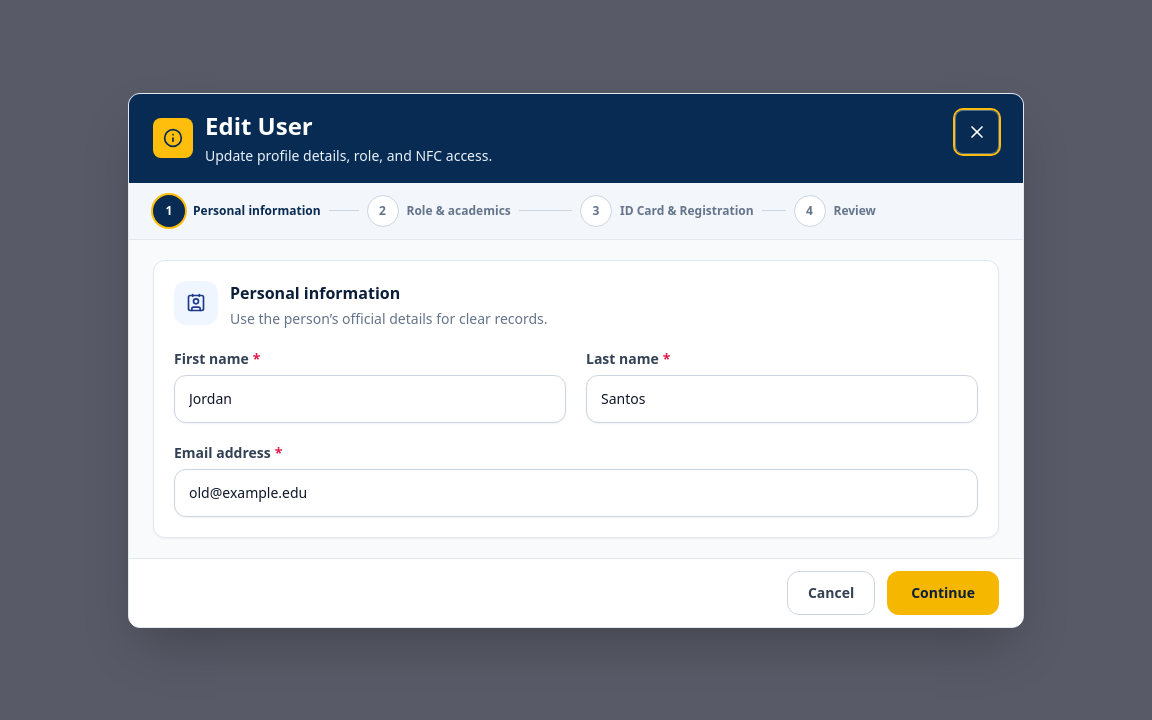
Test: UserFormWorkflow › preserves the edit draft and reports field errors after a failed final save
Expected: the field showing "Jordan" is shown, [174, 374, 566, 422]
Step 1. Replace the text in the field labelled "Email address*" with "draft@example.edu" → (576, 492), box [174, 468, 978, 516]
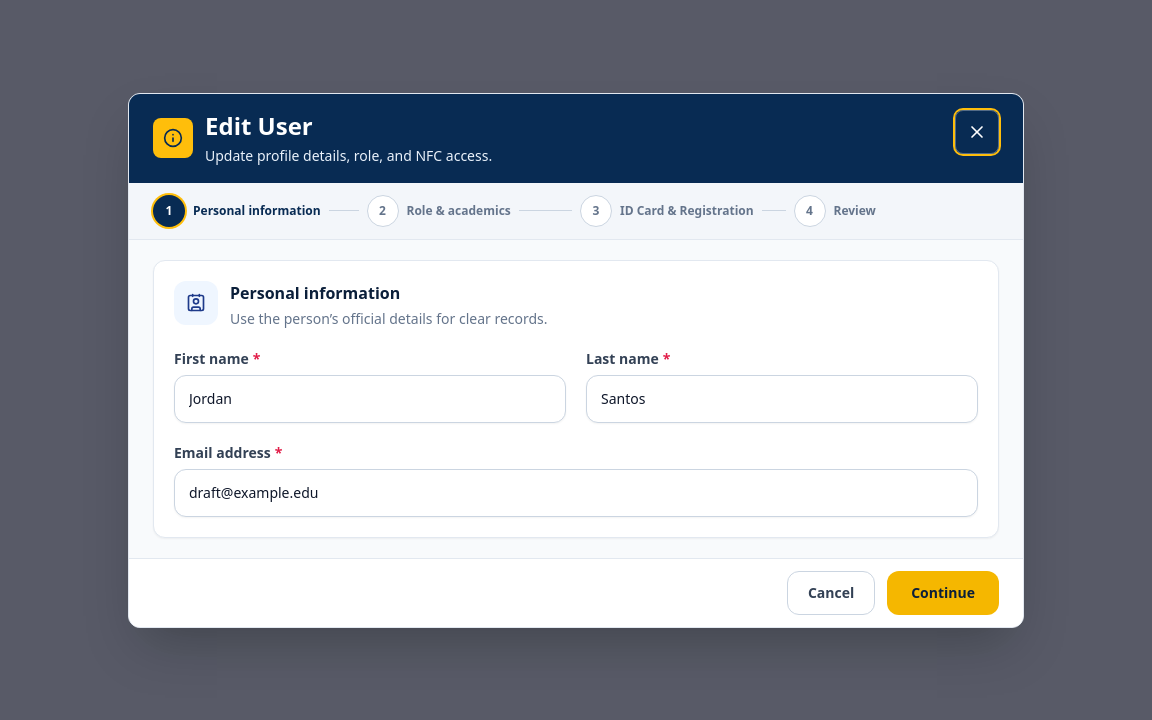
Step 2. Click the button "Continue" → (943, 592), box [887, 570, 999, 614]
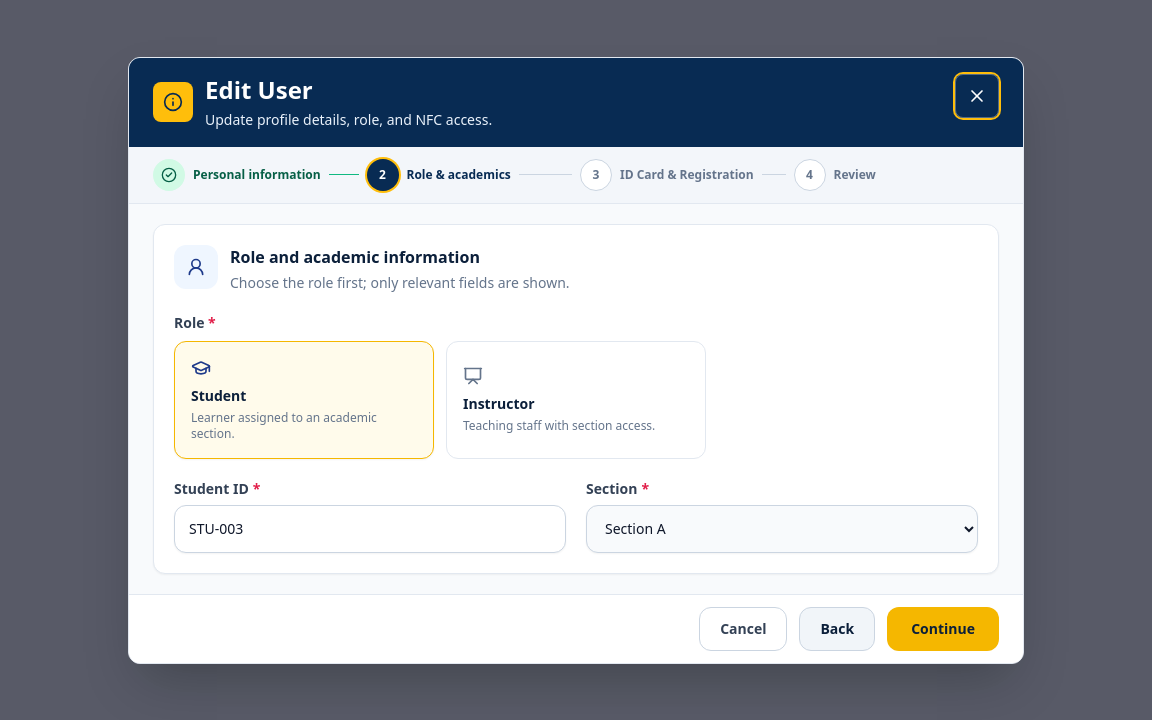
Result: the field labelled "Student ID*" is shown at [174, 504, 566, 552]
Step 3. Click the button "Continue" → (943, 628), box [887, 606, 999, 650]
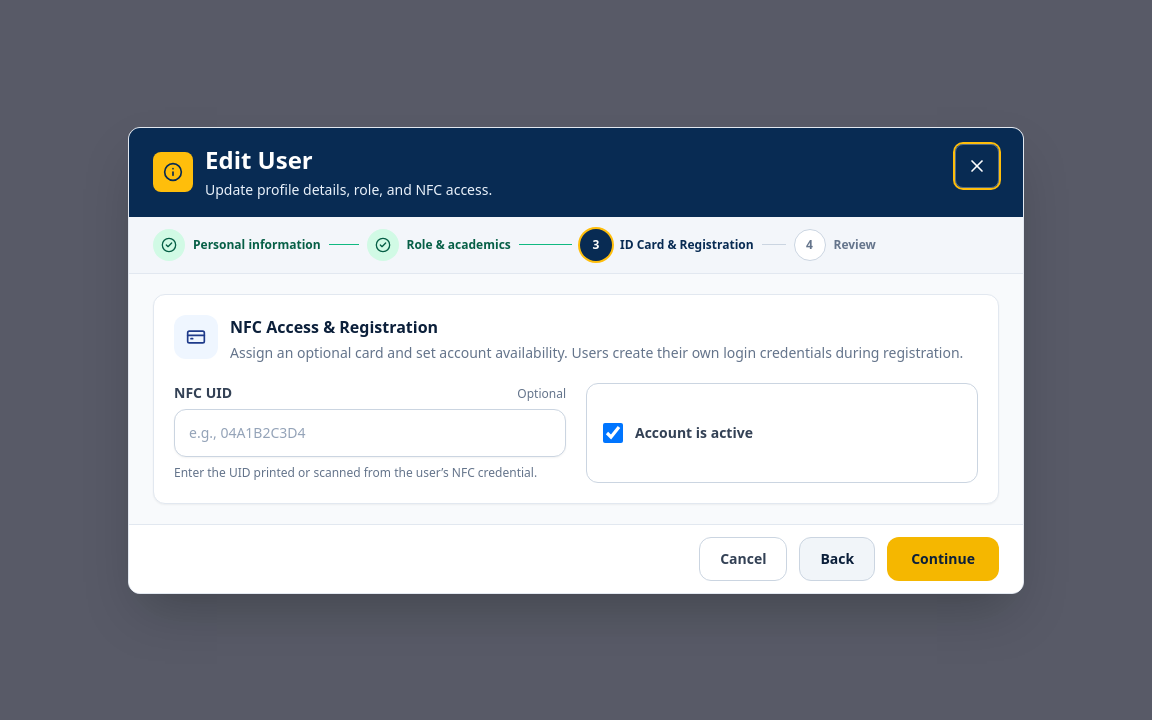
Result: the heading "NFC Access & Registration" is shown at [230, 316, 438, 338]
Step 4. Click the button "Continue" → (943, 558), box [887, 536, 999, 580]
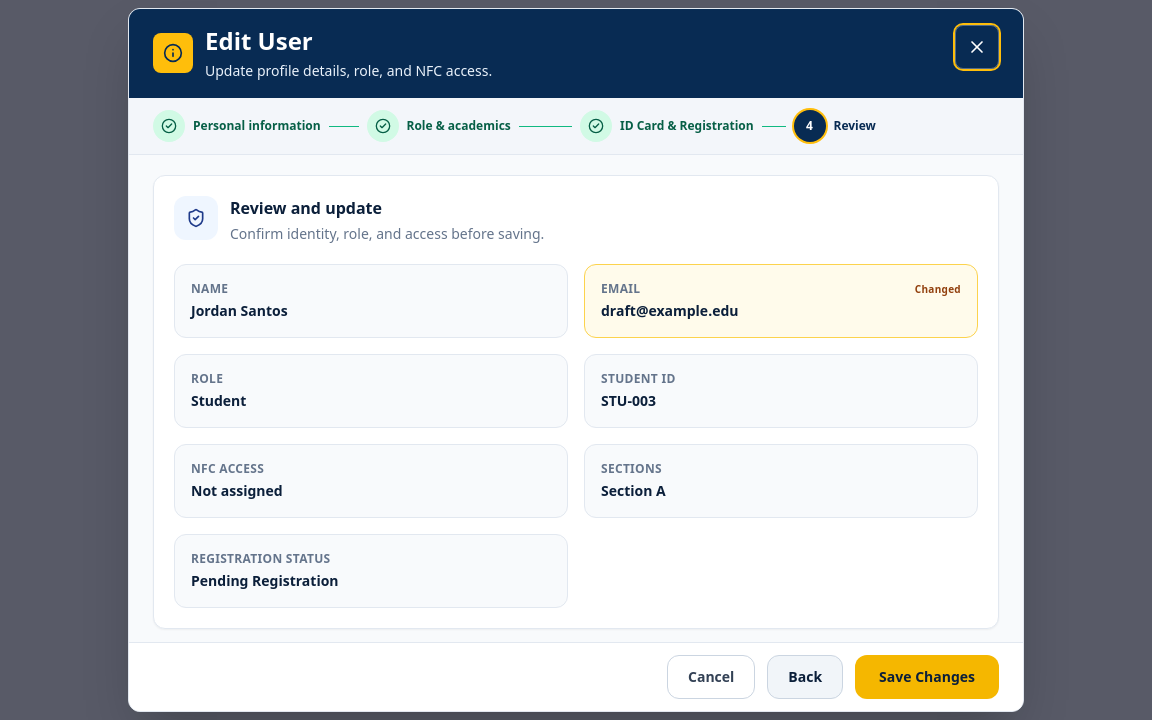
Result: the heading "Review and update" is shown at [230, 197, 382, 219]
Step 5. Click the button "Save Changes" → (927, 677), box [855, 655, 999, 699]
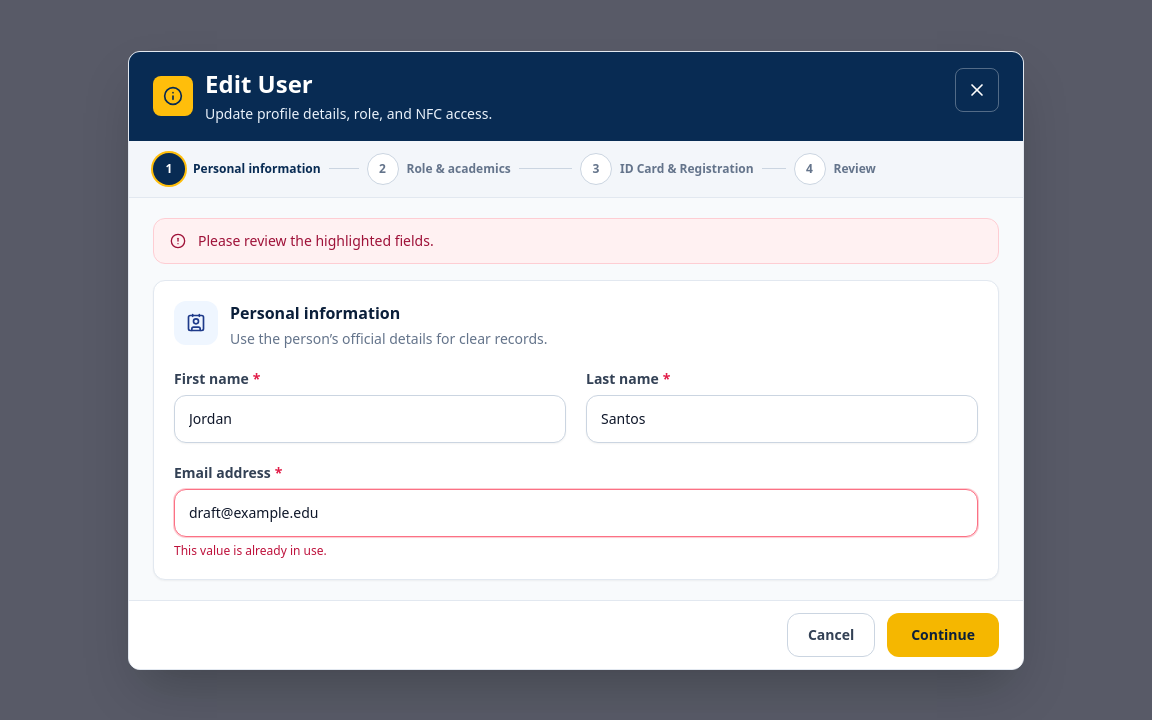
Result: the heading "Personal information" is shown at [230, 302, 400, 324]
Result: the field showing "draft@example.edu" is shown at [174, 488, 978, 536]
Result: the text "This value is already in use." is shown at [174, 542, 327, 558]
